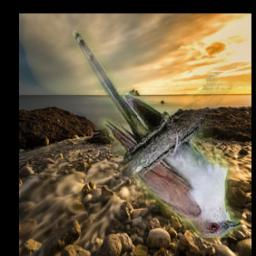Cuckoo: (74, 31, 241, 238)
